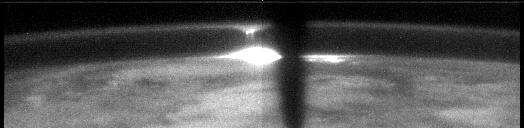negative: (236, 24, 264, 40)
